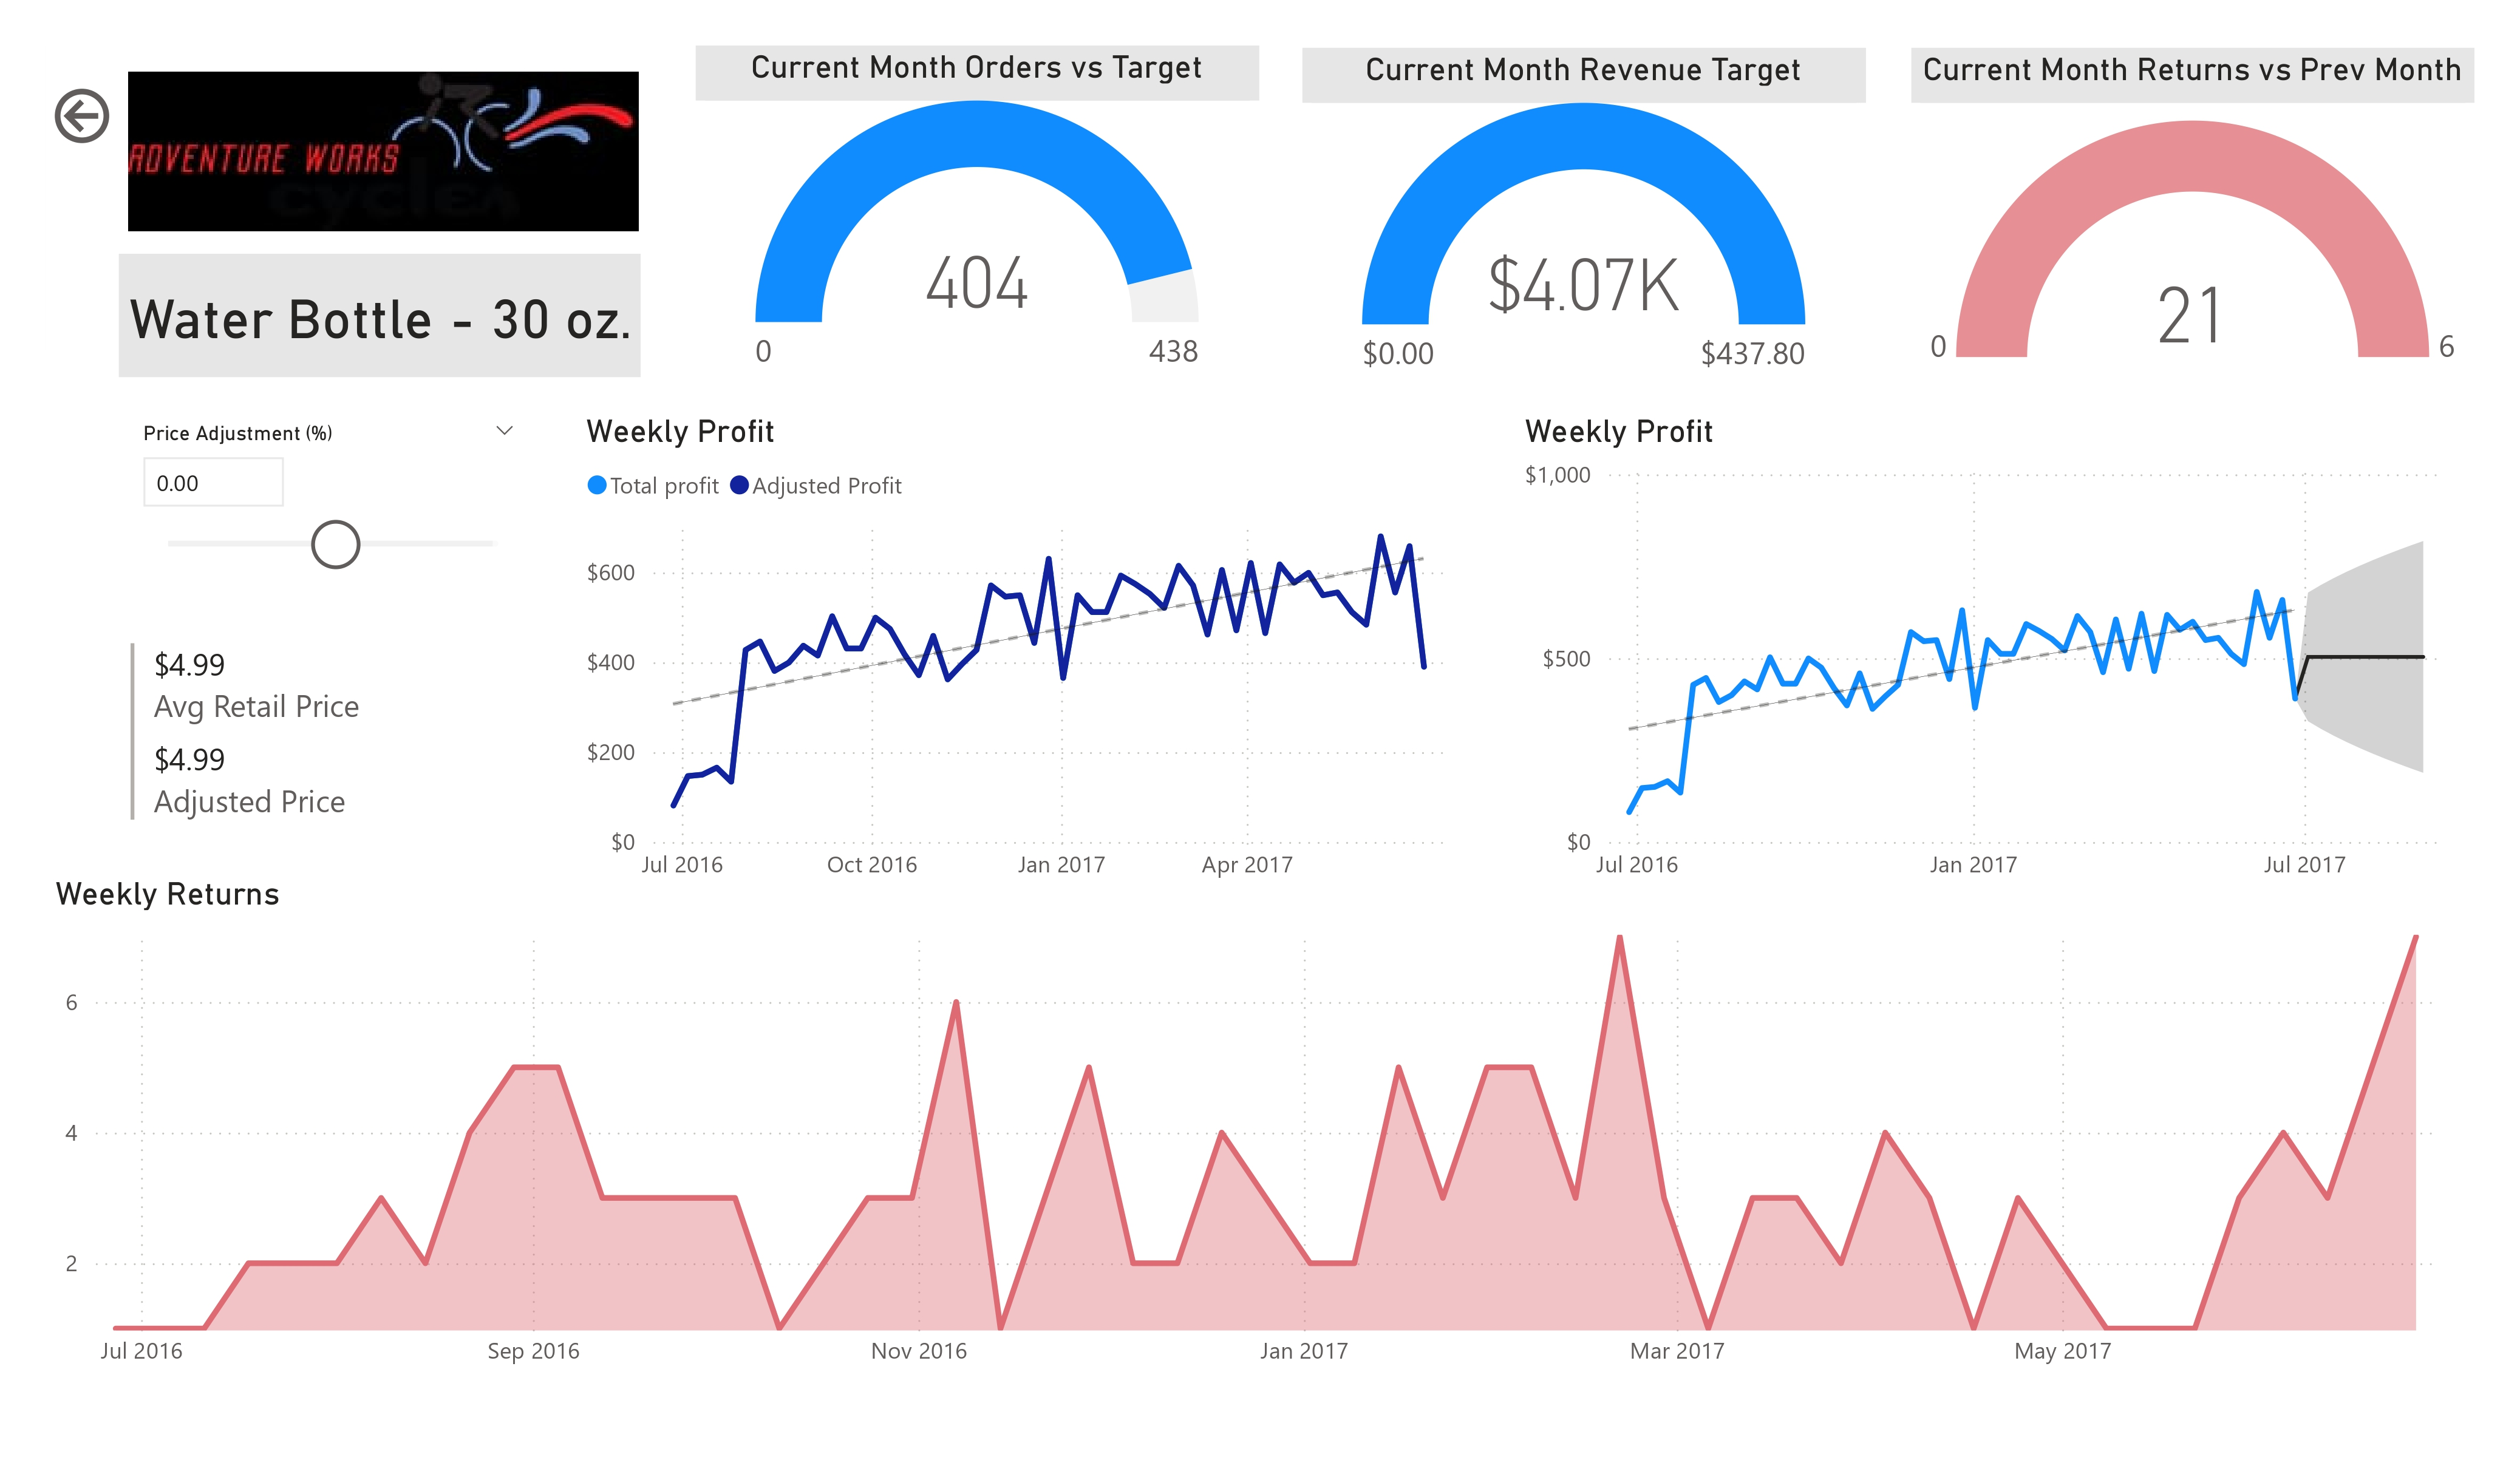

What the dashboard file says about the page in this screenshot:
{"tool":"powerbi","page":{"name":"Product Details","canvas":[1280,720],"ordinal":1},"visuals":[{"type":"image","box":[38.4,0,278.6,112.9],"z":0},{"type":"lineChart","title":"Weekly Profit","fields":{"Y":["AW_Sales_csv.Total profit"],"Category":["AW_Calender_Lookup.Start of Week"]},"box":[774.5,193,505.5,257],"z":1000},{"type":"stackedAreaChart","title":"Weekly Returns","fields":{"Category":["AW_Calender_Lookup.Start of Week"],"Y":["AW_Returns.Total returns"]},"box":[0,437.2,1280.2,269.8],"z":2000},{"type":"gauge","title":"Current Month Orders vs Target","fields":{"Y":["AW_Sales_csv.Total Orders"],"MaxValue":["AW_Sales_csv.Order Target"]},"box":[343,0,296.5,182.6],"z":3000},{"type":"gauge","title":"Current Month Revenue Target","fields":{"MaxValue":["AW_Sales_csv.Order Target"],"Y":["AW_Sales_csv.Total Revenue"]},"box":[662.8,1.2,296.5,182.6],"z":4000},{"type":"gauge","title":"Current Month Returns vs Prev Month","fields":{"Y":["AW_Returns.Total returns"],"MaxValue":["AW_Sales_csv.Prev Month Returns"]},"box":[983.7,1.2,296.5,182.6],"z":5000},{"type":"card","fields":{"Values":["Min(AW_Product_Lookup.ProductName)"]},"box":[38.4,109.3,275,64.8],"z":6000},{"type":"actionButton","box":[0,16.8,38.4,39.6],"z":7000},{"type":"slicer","fields":{"Values":["Price Adjustment (%).Price Adjustment (%)"]},"box":[38.6,193,220.8,107.4],"z":8000},{"type":"multiRowCard","fields":{"Values":["AW_Product_Lookup.Avg Retail Price","AW_Product_Lookup.Adjusted Price"]},"box":[39.8,310.1,220.8,107.4],"z":9000},{"type":"lineChart","title":"Weekly Profit","fields":{"Y":["AW_Sales_csv.Total profit","AW_Sales_csv.Adjusted Profit"],"Category":["AW_Calender_Lookup.Start of Week"]},"box":[279.9,193,476.5,257],"z":10000}]}

Visuals, with their boxes on the page's 1280x720 design canvas (x1, y1, x2, y2). These are canvas units, not pixel positions in the 2520x1457 screenshot, which may show the page scaled, cropped or inside an application window:
image: bbox(38, 0, 317, 113)
"Weekly Profit" lineChart: bbox(774, 193, 1280, 450)
"Weekly Returns" stackedAreaChart: bbox(0, 437, 1280, 707)
"Current Month Orders vs Target" gauge: bbox(343, 0, 640, 183)
"Current Month Revenue Target" gauge: bbox(663, 1, 959, 184)
"Current Month Returns vs Prev Month" gauge: bbox(984, 1, 1280, 184)
card - Min(AW_Product_Lookup.ProductName): bbox(38, 109, 313, 174)
actionButton: bbox(0, 17, 38, 56)
slicer - Price Adjustment (%).Price Adjustment (%): bbox(39, 193, 259, 300)
multiRowCard - AW_Product_Lookup.Avg Retail Price x AW_Product_Lookup.Adjusted Price: bbox(40, 310, 261, 418)
"Weekly Profit" lineChart: bbox(280, 193, 756, 450)
